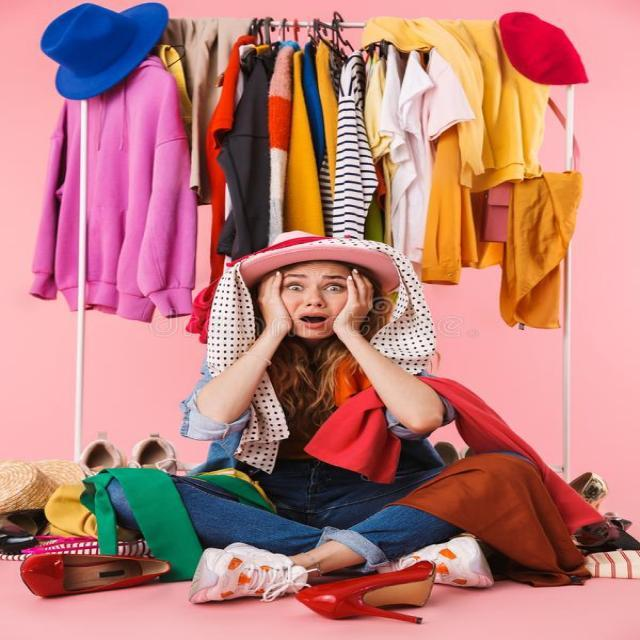clothes: (56, 26, 578, 230)
